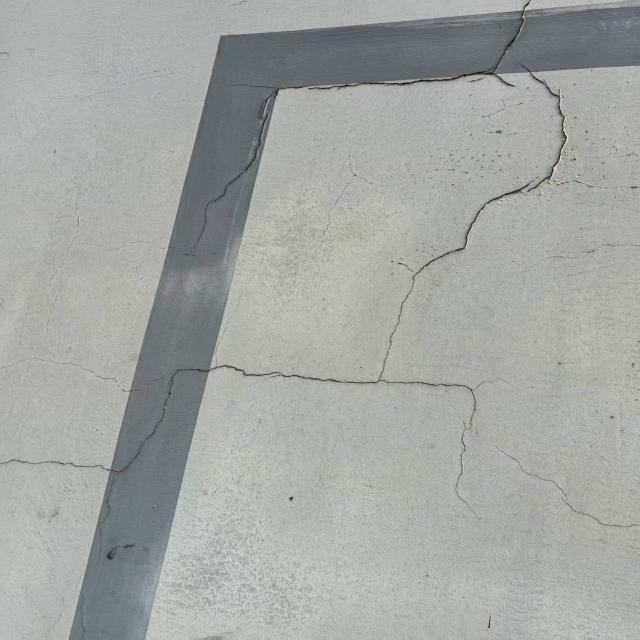crack: (2, 55, 577, 523), (183, 4, 546, 258), (483, 441, 633, 539)
